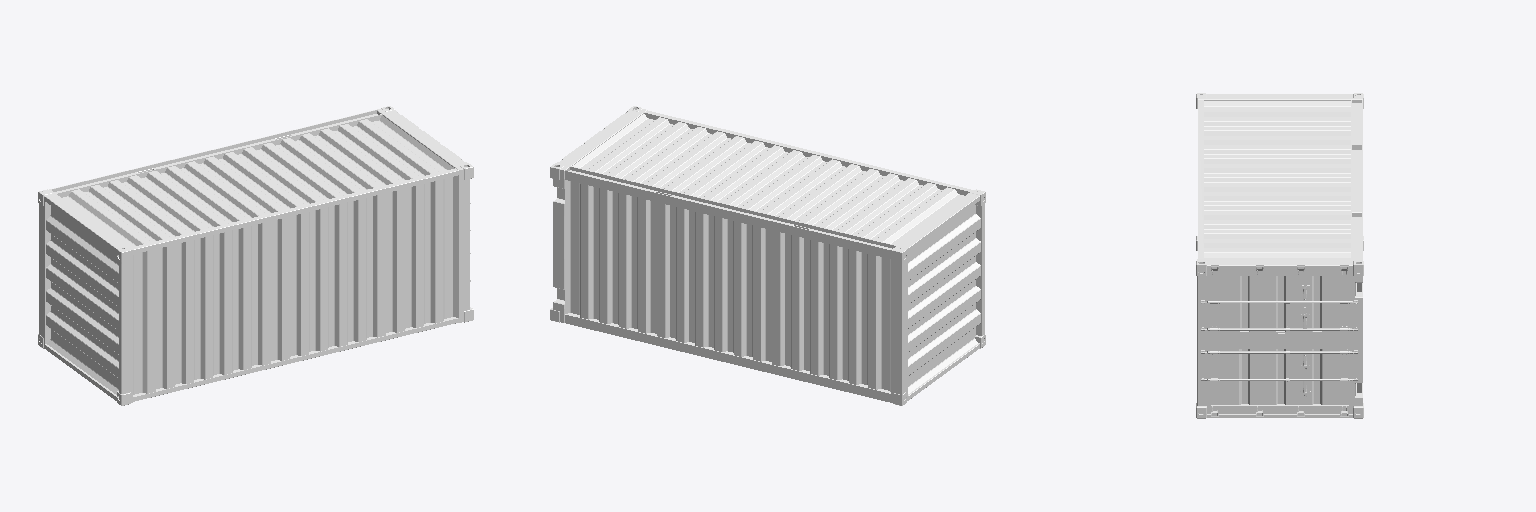
Rendered from Container.obj.
3 views of the same model, side by side, from view 1: azimuth 30°, elevation 25°; view 2: azimuth 150°, elevation 25°; view 3: azimuth 270°, elevation 25° (orthographic).
Visible parts, largest first — view 1: Container_00; view 2: Container_00; view 3: Container_00, Container_01, Container_23, Container_58.
Part boxes in pixels (x1,y1,x2,y2): Container_00: (38,106,473,405); Container_00: (550,106,985,405); Container_00: (1196,93,1363,418); Container_01: (1208,268,1350,413); Container_23: (1201,349,1357,374); Container_58: (1201,307,1357,331).
Size of the model in its own units: 714 by 297 by 294.